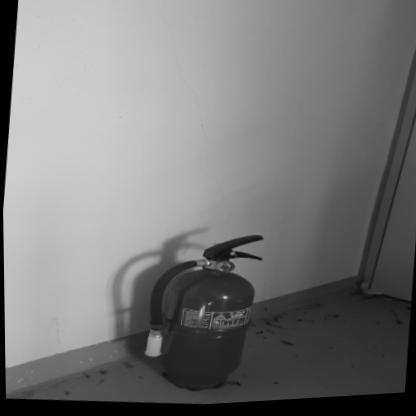FE: (136, 226, 265, 399)
